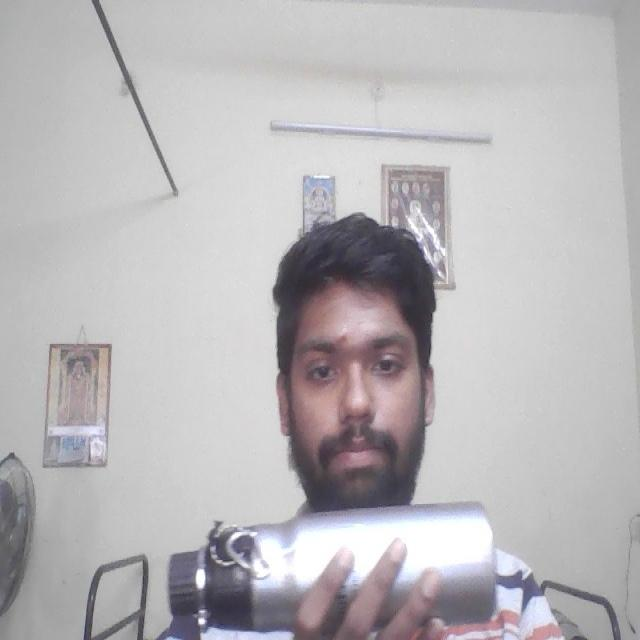Drinking: (166, 508, 503, 628)
